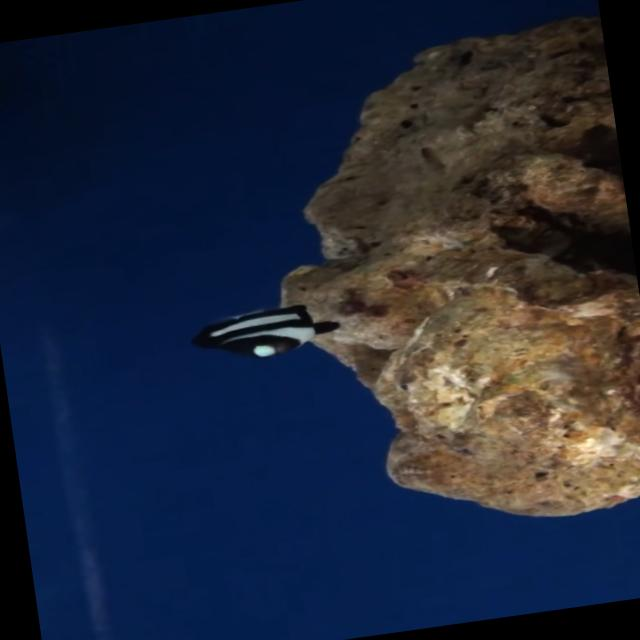ThreeStripedDamselfish: (193, 303, 336, 358)
